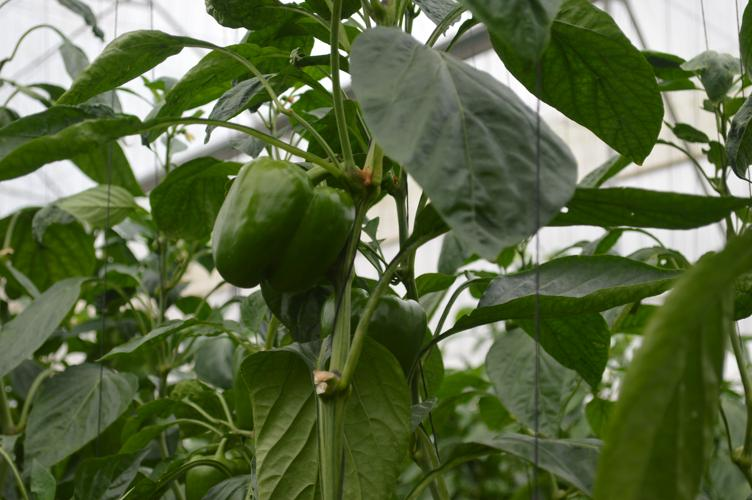BellPepper: (205, 149, 359, 300)
